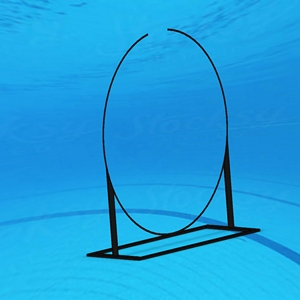circle: (85, 23, 264, 264)
